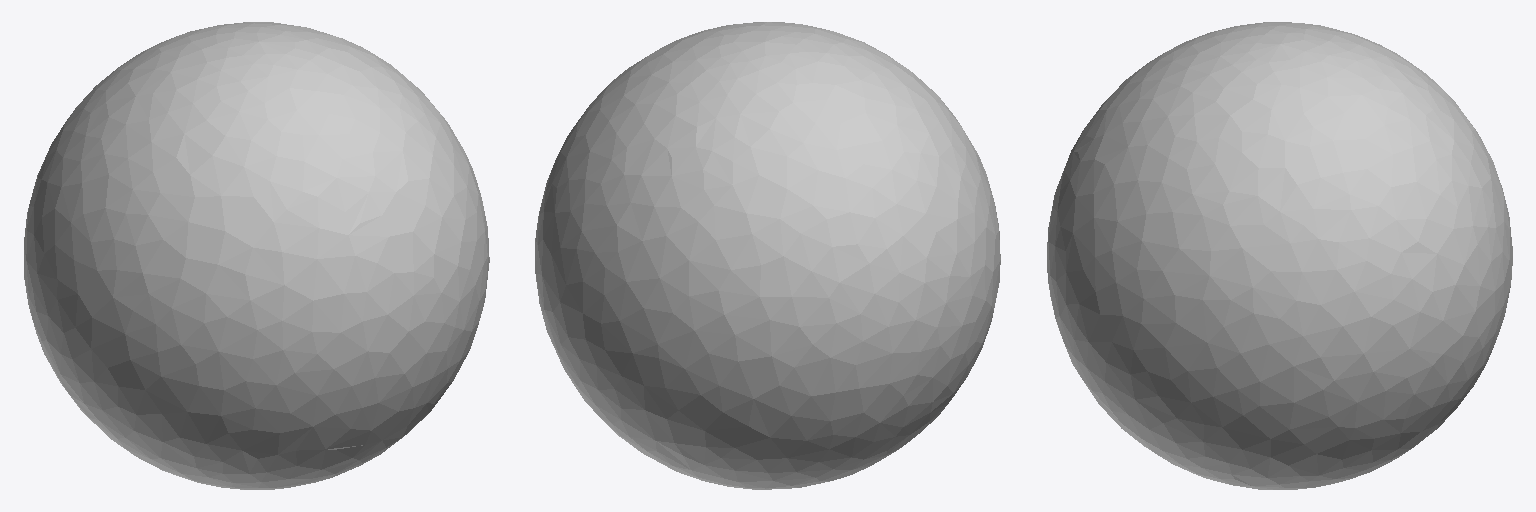
File: sphere_ofbuddha.obj
3 renders of one model, left to right at view 1: azimuth 30°, elevation 25°; view 2: azimuth 150°, elevation 25°; view 3: azimuth 270°, elevation 25°, orthographic.
Parts seen in each view (by area): view 1: Sphere; view 2: Sphere; view 3: Sphere.
Boxes of the visible parts, box(x1,y1,x2,y2) form: Sphere: box(24, 22, 489, 489); Sphere: box(535, 22, 1000, 489); Sphere: box(1047, 22, 1512, 489).
Bounding box in the file's own units: 2.55 × 2.58 × 2.56.